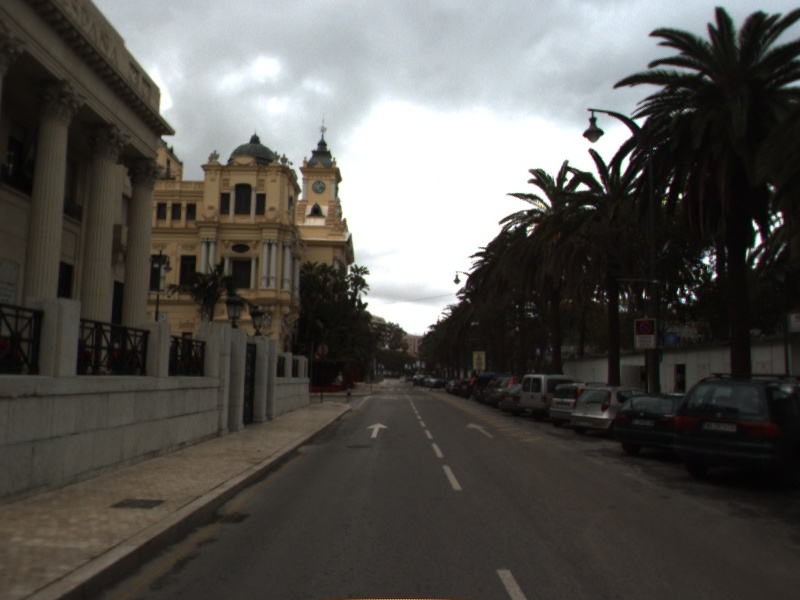STRAIGHT: (464, 420, 496, 440), (365, 421, 391, 440)
